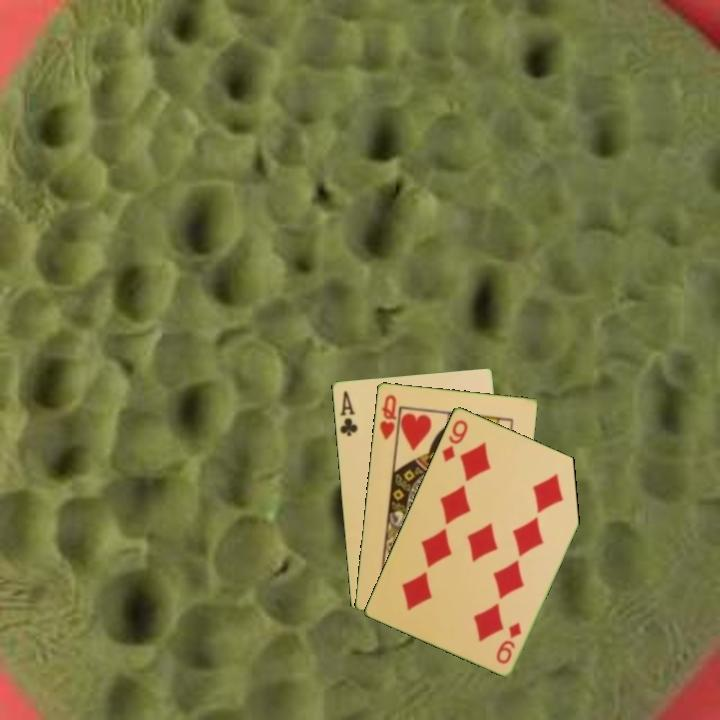9d: (438, 416, 471, 465), (492, 618, 524, 667)
Ac: (336, 387, 360, 439)
Qh: (376, 391, 399, 442)
